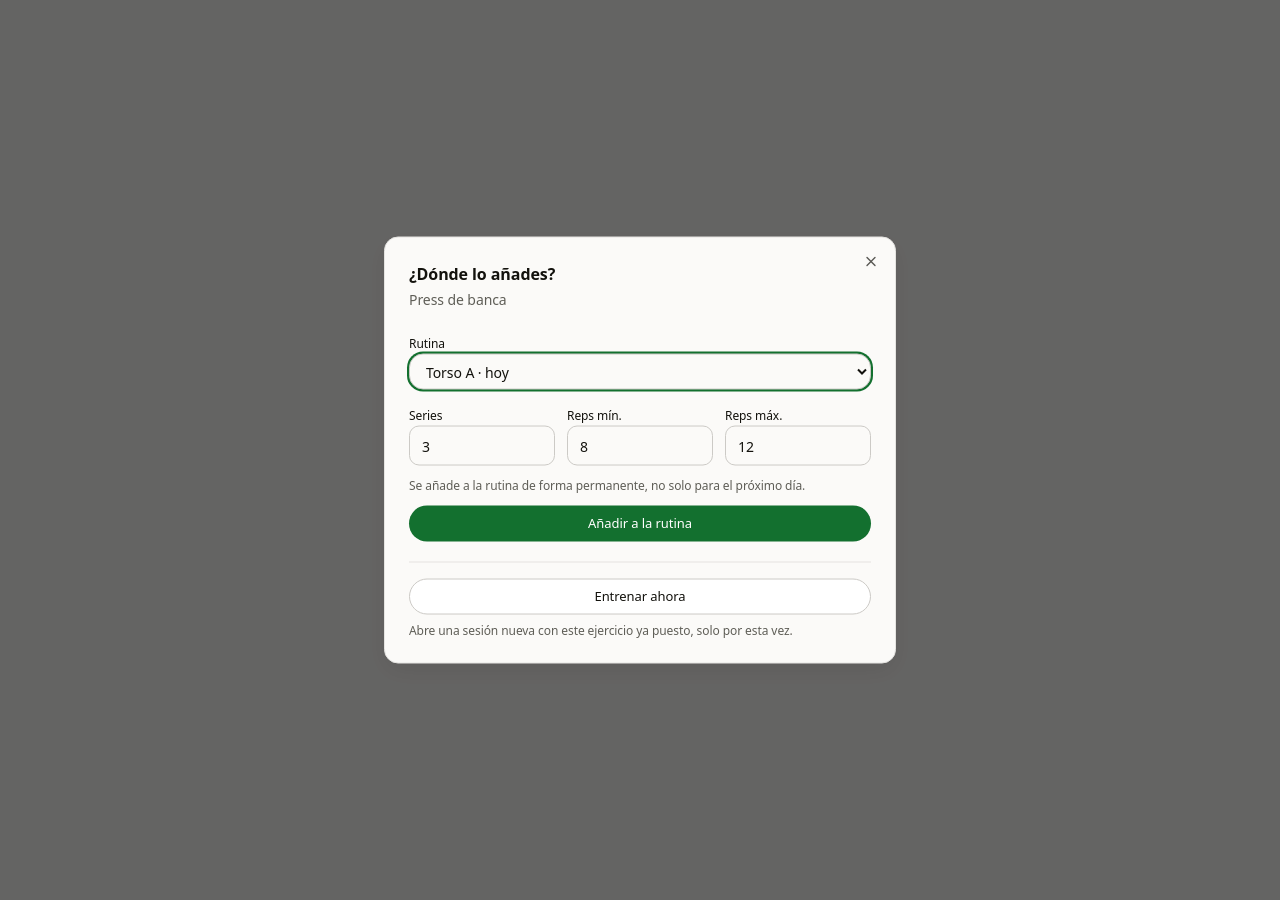
Test case: AddExerciseSheet › blocks zero sets
Replace the text in the number field labelled "Series" with "0" at (482, 446), box [409, 426, 555, 466]
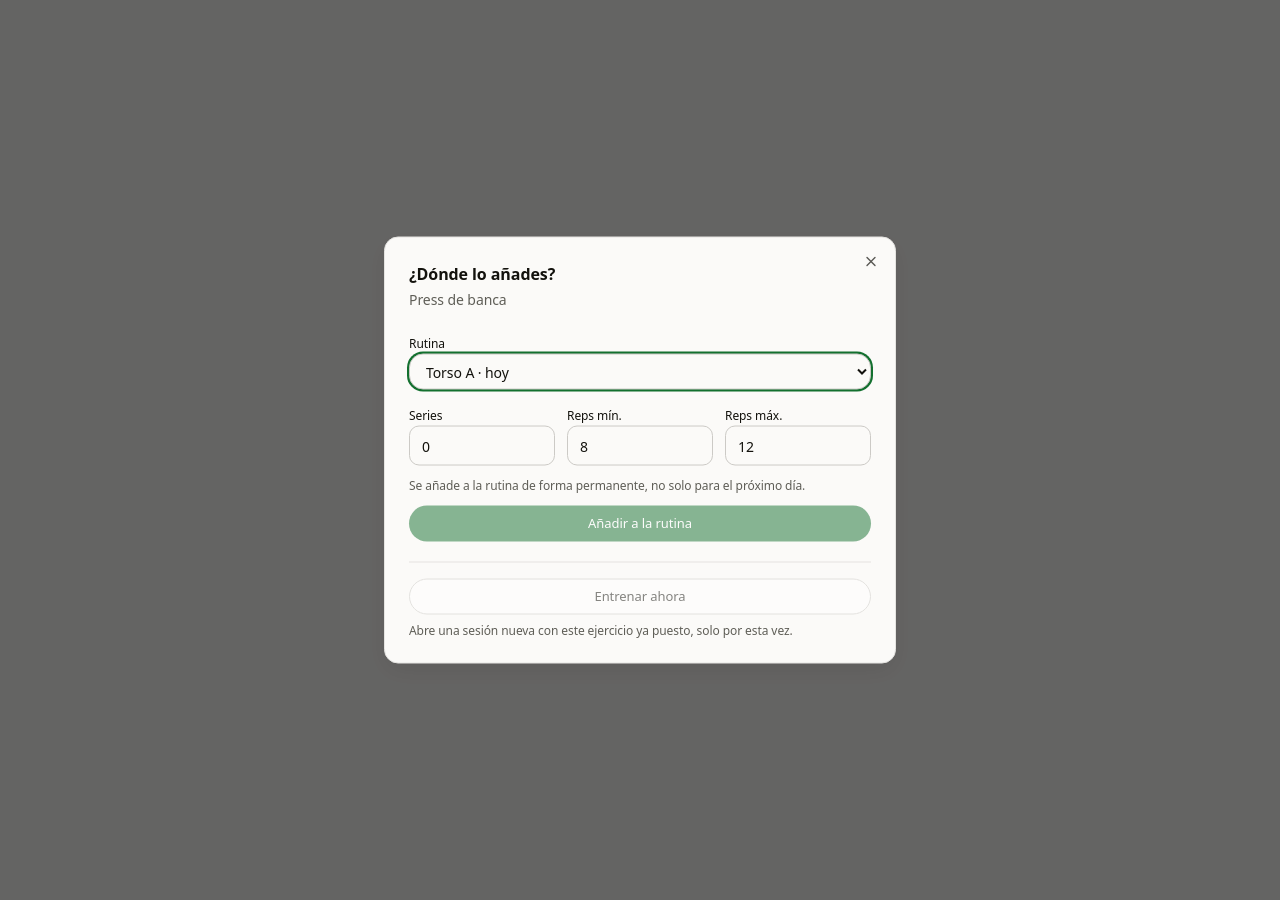
Check: the button "Añadir a la rutina" is disabled, box [409, 506, 871, 542]
